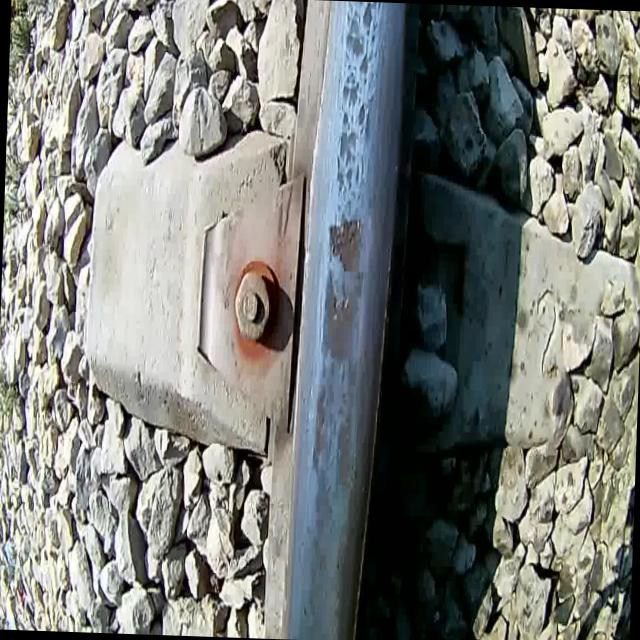Spallings: (324, 215, 368, 280), (323, 274, 358, 328)
Squats: (300, 263, 371, 640), (330, 0, 385, 210)
